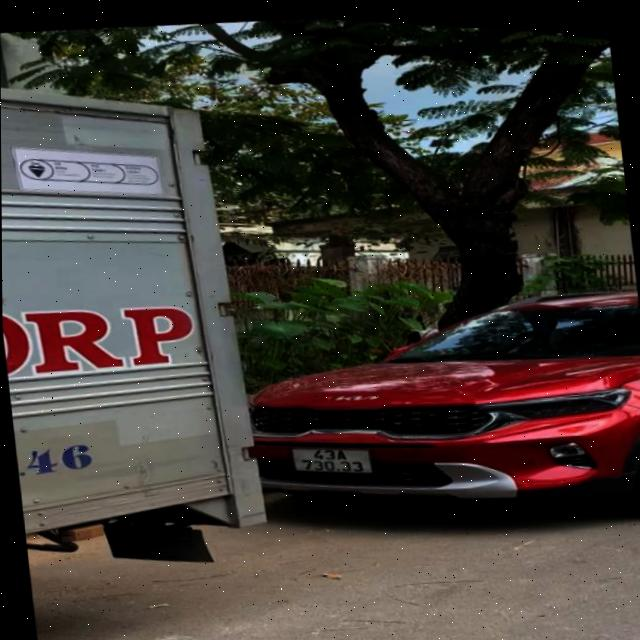car: (0, 63, 253, 577), (238, 245, 640, 549)
plate: (285, 434, 376, 486)
